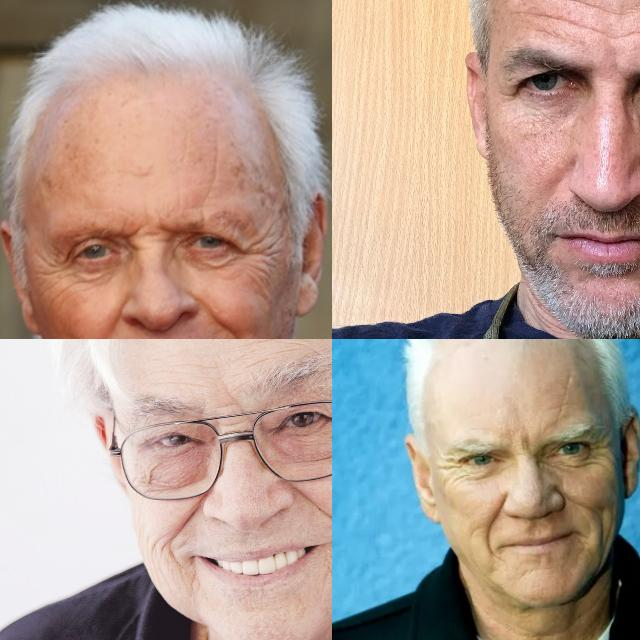crows_feet: (32, 244, 74, 296), (240, 231, 274, 279), (587, 436, 611, 468), (440, 454, 460, 476)
forehead: (517, 0, 590, 33), (200, 142, 226, 204), (241, 339, 311, 362), (554, 375, 572, 421)
frown_line: (124, 206, 178, 250), (217, 416, 249, 434)
gummy_smile: (193, 276, 235, 339), (285, 475, 331, 515), (170, 492, 203, 542), (93, 292, 128, 339), (483, 499, 505, 549)
masseter: (146, 534, 180, 572), (593, 509, 607, 557)
